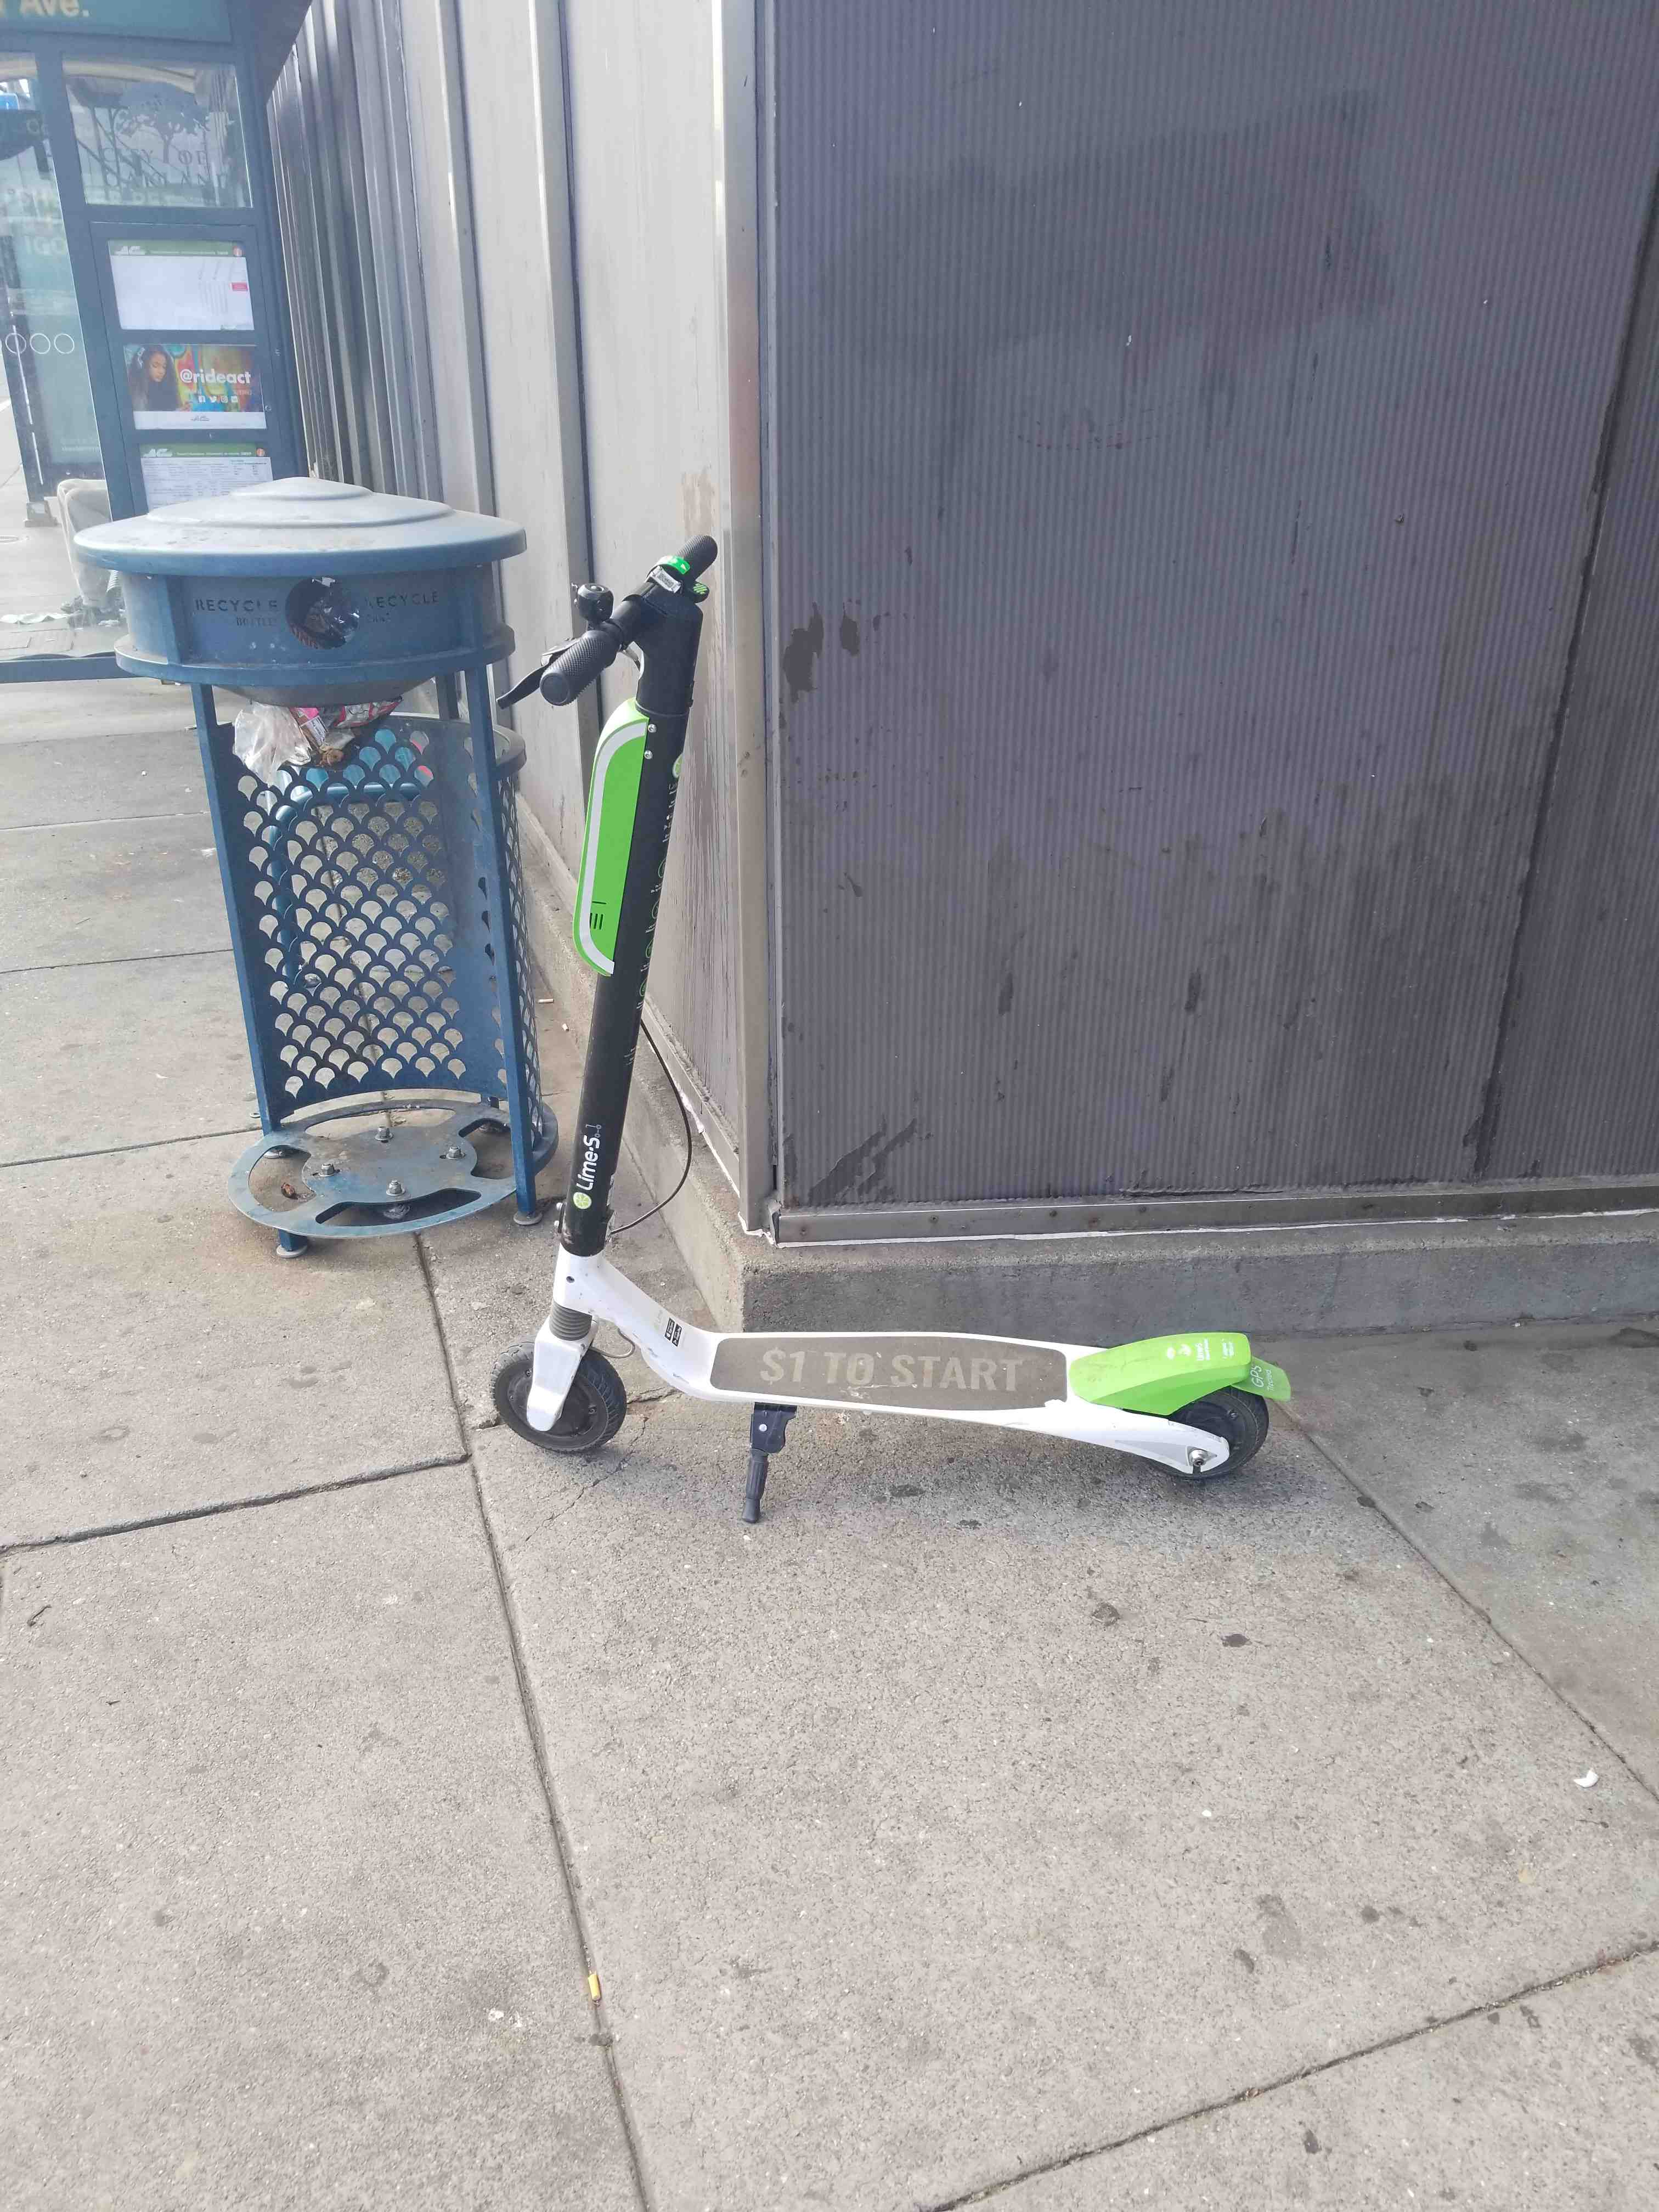scooter: (458, 523, 1293, 1557)
